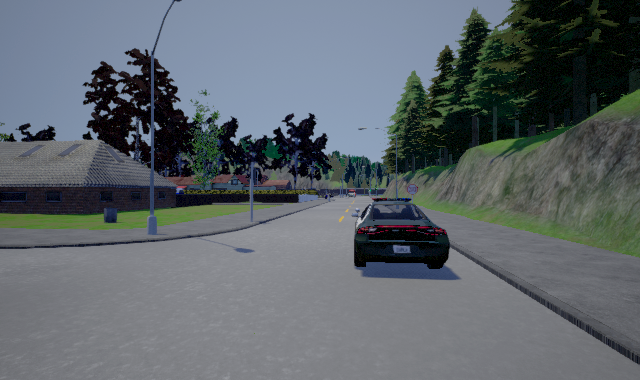traffic_sign: (407, 184, 418, 195)
vehicle: (351, 198, 450, 269)
